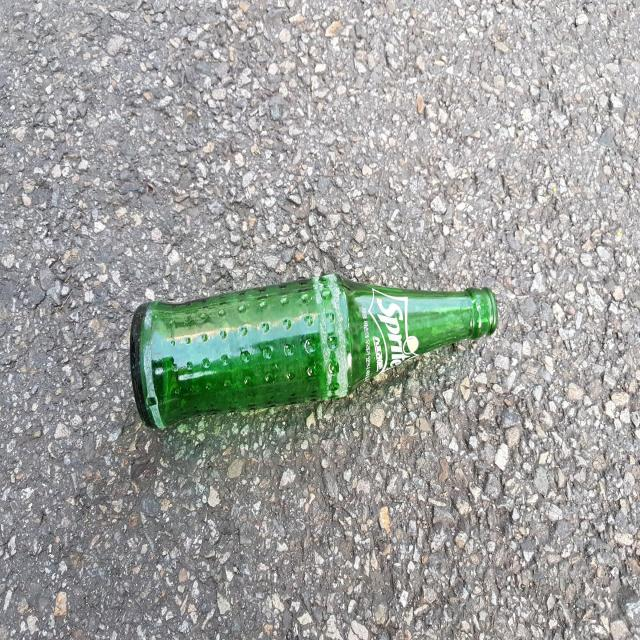glass: (130, 274, 499, 429)
